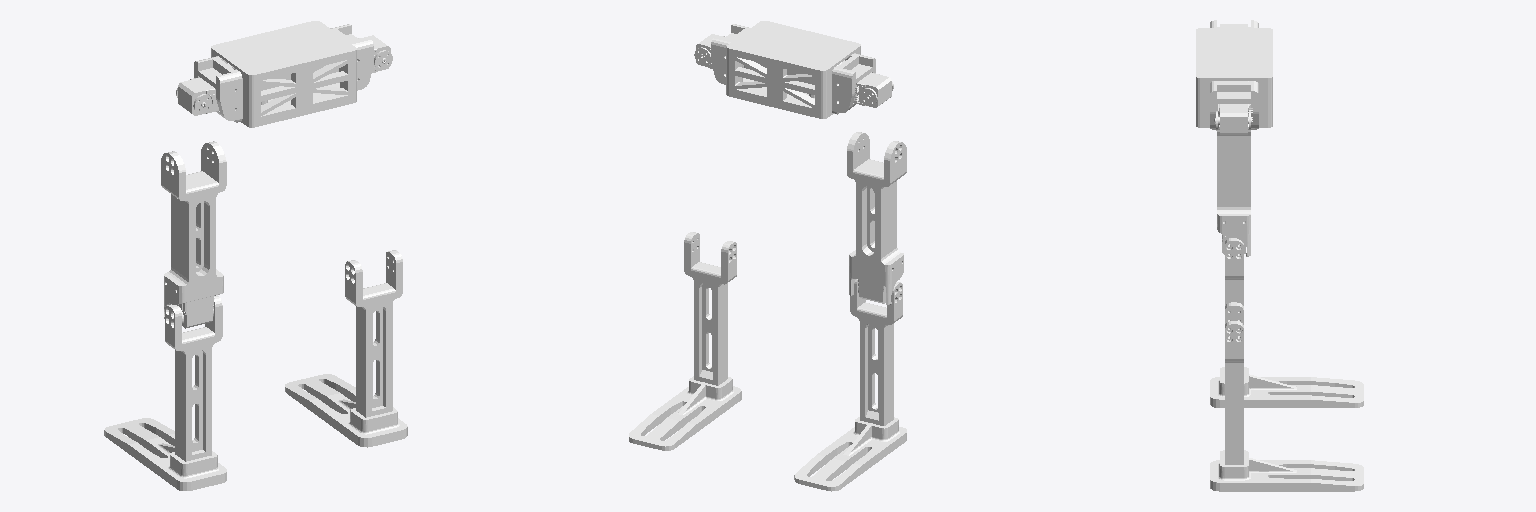
robot.urdf — LeggyBot:
<?xml version="1.0" encoding="utf-8"?>
<!-- This URDF was automatically created by SolidWorks to URDF Exporter! Originally created by Stephen Brawner (brawner@gmail.com) 
     Commit Version: 1.6.0-4-g7f85cfe  Build Version: 1.6.7995.38578
     For more information, please see http://wiki.ros.org/sw_urdf_exporter -->
<robot
  name="LeggyBot">
  <link
    name="BaseLink">
    <inertial>
      <origin
        xyz="-0.11149 0.48454 0.0239"
        rpy="0 0 0" />
      <mass
        value="0.542" />
      <inertia
        ixx="0.00037886"
        ixy="-2.5317E-11"
        ixz="9.6504E-11"
        iyy="0.0012936"
        iyz="5.4561E-08"
        izz="0.0011305" />
    </inertial>
    <visual>
      <origin
        xyz="0 0 0"
        rpy="0 0 0" />
      <geometry>
        <mesh
          filename="package://LeggyBot/meshes/BaseLink.STL" />
      </geometry>
      <material
        name="">
        <color
          rgba="1 1 1 1" />
      </material>
    </visual>
    <collision>
      <origin
        xyz="0 0 0"
        rpy="0 0 0" />
      <geometry>
        <mesh
          filename="package://LeggyBot/meshes/BaseLink.STL" />
      </geometry>
    </collision>
  </link>
  <link
    name="RightHip">
    <inertial>
      <origin
        xyz="-0.0001436 -0.033809 0.023766"
        rpy="0 0 0" />
      <mass
        value="0.102" />
      <inertia
        ixx="5.2172E-05"
        ixy="-2.137E-09"
        ixz="3.2038E-11"
        iyy="4.3682E-05"
        iyz="3.9053E-11"
        izz="4.6004E-05" />
    </inertial>
    <visual>
      <origin
        xyz="-0.00495 -0.00495 0"
        rpy="0 0 0" />
      <geometry>
        <mesh
          filename="package://LeggyBot/meshes/RightHip.STL" />
      </geometry>
      <material
        name="">
        <color
          rgba="1 1 1 1" />
      </material>
    </visual>
    <collision>
      <origin
        xyz="-0.00495 -0.00495 0"
        rpy="0 0 0" />
      <geometry>
        <mesh
          filename="package://LeggyBot/meshes/RightHip.STL" />
      </geometry>
    </collision>
  </link>
  <joint
    name="RightBaseToHip"
    type="revolute">
    <origin
      xyz="-0.010073 0 0.48525"
      rpy="1.5708 0 0" />
    <parent
      link="BaseLink" />
    <child
      link="RightHip" />
    <axis
      xyz="0 0 1" />
    <limit
      lower="-0.174533"
      upper="0.785398"
      effort="0"
      velocity="0" />
  </joint>
  <link
    name="RightThigh">
    <inertial>
      <origin
        xyz="0.0049489 -0.087073 -0.0002629"
        rpy="0 0 0" />
      <mass
        value="0.154" />
      <inertia
        ixx="0.00040883"
        ixy="-1.2646E-06"
        ixz="-5.4647E-09"
        iyy="6.1873E-05"
        iyz="-4.3543E-06"
        izz="0.00043119" />
    </inertial>
    <visual>
      <origin
        xyz="0 0 0"
        rpy="0 0 0" />
      <geometry>
        <mesh
          filename="package://LeggyBot/meshes/RightThigh.STL" />
      </geometry>
      <material
        name="">
        <color
          rgba="1 1 1 1" />
      </material>
    </visual>
    <collision>
      <origin
        xyz="0 0 0"
        rpy="0 0 0" />
      <geometry>
        <mesh
          filename="package://LeggyBot/meshes/RightThigh.STL" />
      </geometry>
    </collision>
  </link>
  <joint
    name="RightHipToThigh"
    type="revolute">
    <origin
      xyz="-0.00495 -0.0666 0.023766"
      rpy="0 0 0" />
    <parent
      link="RightHip" />
    <child
      link="RightThigh" />
    <axis
      xyz="1 0 0" />
    <limit
      lower="-1.047198"
      upper="1.047198"
      effort="0"
      velocity="0" />
  </joint>
  <link
    name="RightShinAndFoot">
    <inertial>
      <origin
        xyz="0.0049495 -0.12646 -0.0192367"
        rpy="0 0 0" />
      <mass
        value="0.18" />
      <inertia
        ixx="0.00047636"
        ixy="-1.223E-10"
        ixz="3.0463E-11"
        iyy="0.00025897"
        iyz="-9.554E-06"
        izz="0.00030811" />
    </inertial>
    <visual>
      <origin
        xyz="0 -0.00495 -0.0049497"
        rpy="0 0 0" />
      <geometry>
        <mesh
          filename="package://LeggyBot/meshes/RightShinAndFoot.STL" />
      </geometry>
      <material
        name="">
        <color
          rgba="1 1 1 1" />
      </material>
    </visual>
    <!-- Simplified flat sole used by the current MJCF training model. Visuals,
         mass, COM and inertia remain the CAD-derived link values. -->
    <collision name="right_shin_collision">
      <origin xyz="0 -0.07495 -0.0049497" rpy="0 0 0" />
      <geometry><box size="0.036 0.140 0.036" /></geometry>
    </collision>
    <collision name="right_foot_collision">
      <origin xyz="0 -0.15995 -0.0545497" rpy="0 0 0" />
      <geometry><box size="0.055 0.040 0.150" /></geometry>
    </collision>
  </link>
  <joint
    name="RightKnee"
    type="revolute">
    <origin
      xyz="0 -0.1646 0"
      rpy="0 0 0" />
    <parent
      link="RightThigh" />
    <child
      link="RightShinAndFoot" />
    <axis
      xyz="1 0 0" />
    <limit
      lower="-2.094395"
      upper="0.261799"
      effort="0"
      velocity="0" />
  </joint>
  <link
    name="LeftHip">
    <inertial>
      <origin
        xyz="-0.0001433 -0.033809 0.023766"
        rpy="0 0 0" />
      <mass
        value="0.102" />
      <inertia
        ixx="5.2172E-05"
        ixy="-2.137E-09"
        ixz="3.2039E-11"
        iyy="4.3682E-05"
        iyz="3.9054E-11"
        izz="4.6004E-05" />
    </inertial>
    <visual>
      <origin
        xyz="0 0 0"
        rpy="0 0 0" />
      <geometry>
        <mesh
          filename="package://LeggyBot/meshes/LeftHip.STL" />
      </geometry>
      <material
        name="">
        <color
          rgba="1 1 1 1" />
      </material>
    </visual>
    <collision>
      <origin
        xyz="0 0 0"
        rpy="0 0 0" />
      <geometry>
        <mesh
          filename="package://LeggyBot/meshes/LeftHip.STL" />
      </geometry>
    </collision>
  </link>
  <joint
    name="LeftBaseToHip"
    type="revolute">
    <origin
      xyz="-0.21327 0 0.48525"
      rpy="1.5708 0 0" />
    <parent
      link="BaseLink" />
    <child
      link="LeftHip" />
    <axis
      xyz="0 0 1" />
    <limit
      lower="-0.785398"
      upper="0.174533"
      effort="0"
      velocity="0" />
  </joint>
  <link
    name="LeftThigh">
    <inertial>
      <origin
        xyz="-8.1405E-07 -0.087073 -0.0002629"
        rpy="0 0 0" />
      <mass
        value="0.154" />
      <inertia
        ixx="0.00040883"
        ixy="-1.2646E-06"
        ixz="-5.4647E-09"
        iyy="6.1873E-05"
        iyz="-4.3543E-06"
        izz="0.00043119" />
    </inertial>
    <visual>
      <origin
        xyz="0 0 0"
        rpy="0 0 0" />
      <geometry>
        <mesh
          filename="package://LeggyBot/meshes/LeftThigh.STL" />
      </geometry>
      <material
        name="">
        <color
          rgba="1 1 1 1" />
      </material>
    </visual>
    <collision>
      <origin
        xyz="0 0 0"
        rpy="0 0 0" />
      <geometry>
        <mesh
          filename="package://LeggyBot/meshes/LeftThigh.STL" />
      </geometry>
    </collision>
  </link>
  <joint
    name="LeftHipToThigh"
    type="revolute">
    <origin
      xyz="0 -0.0666 0.023766"
      rpy="0 0 0" />
    <parent
      link="LeftHip" />
    <child
      link="LeftThigh" />
    <axis
      xyz="1 0 0" />
    <limit
      lower="-1.047198"
      upper="1.047198"
      effort="0"
      velocity="0" />
  </joint>
  <link
    name="LeftShinAndFoot">
    <inertial>
      <origin
        xyz="-2.7448E-07 -0.12646 -0.0192367"
        rpy="0 0 0" />
      <mass
        value="0.18" />
      <inertia
        ixx="0.00047636"
        ixy="-1.223E-10"
        ixz="3.0463E-11"
        iyy="0.00025897"
        iyz="-9.554E-06"
        izz="0.00030811" />
    </inertial>
    <visual>
      <origin
        xyz="0 -0.00495 -0.0049497"
        rpy="0 0 0" />
      <geometry>
        <mesh
          filename="package://LeggyBot/meshes/LeftShinAndFoot.STL" />
      </geometry>
      <material
        name="">
        <color
          rgba="1 1 1 1" />
      </material>
    </visual>
    <collision name="left_shin_collision">
      <origin xyz="0 -0.07495 -0.0049497" rpy="0 0 0" />
      <geometry><box size="0.036 0.140 0.036" /></geometry>
    </collision>
    <collision name="left_foot_collision">
      <origin xyz="0 -0.15995 -0.0545497" rpy="0 0 0" />
      <geometry><box size="0.055 0.040 0.150" /></geometry>
    </collision>
  </link>
  <joint
    name="LeftKnee"
    type="revolute">
    <origin
      xyz="0 -0.1646 0"
      rpy="0 0 0" />
    <parent
      link="LeftThigh" />
    <child
      link="LeftShinAndFoot" />
    <axis
      xyz="1 0 0" />
    <limit
      lower="-2.094395"
      upper="0.261799"
      effort="0"
      velocity="0" />
  </joint>
</robot>

--- What the picture shows (computed from the rendered views, not written in the file) ---
The picture shows the robot from 3 angles, left to right: view 1: azimuth 30°, elevation 25°; view 2: azimuth 150°, elevation 25°; view 3: azimuth 270°, elevation 25°; orthographic projection.
Model LeggyBot with 7 links and 6 joints (6 revolute), rooted at BaseLink, posed every joint at zero.
Visible links, largest first — view 1: BaseLink, RightShinAndFoot, LeftShinAndFoot, LeftThigh; view 2: BaseLink, RightShinAndFoot, LeftShinAndFoot, LeftThigh; view 3: BaseLink, RightShinAndFoot, LeftShinAndFoot, LeftThigh.
Link boxes in pixels (x1,y1,x2,y2): BaseLink: (176,21,392,127); RightShinAndFoot: (285,250,407,447); LeftShinAndFoot: (104,295,226,490); LeftThigh: (161,141,226,328); BaseLink: (694,21,893,118); RightShinAndFoot: (629,232,741,450); LeftShinAndFoot: (794,279,906,491); LeftThigh: (847,132,906,304); BaseLink: (1196,20,1272,134); RightShinAndFoot: (1210,302,1363,491); LeftShinAndFoot: (1210,238,1363,407); LeftThigh: (1217,130,1250,256).
Bounding box of the posed robot: 0.2582 × 0.1743 × 0.4389 m (x, y, z).
Meshes: 7 distinct files referenced, 4 mesh visuals loaded (4 binary STL); not drawn: 3 (reference not matched to a file when rendering).
